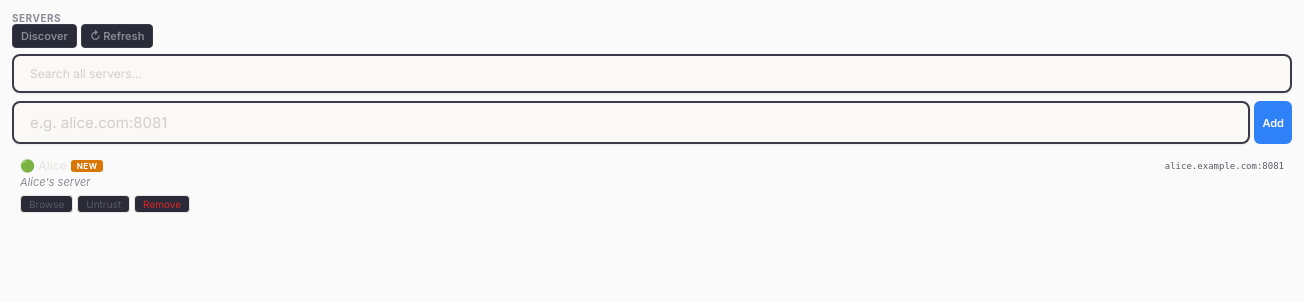
Test: ServerDirectoryPanel › shows remote error on fetch failure
What coordinates should you click on to do the following:
click the button "Browse"
I would click on:
 (47, 204)
Its box is [20,195,73,213].
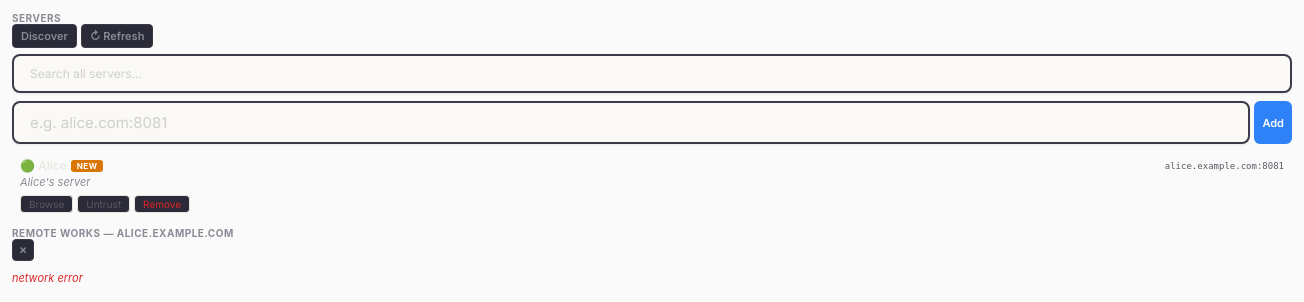
Expected: the text "network error" is shown, [12,271,83,285]
